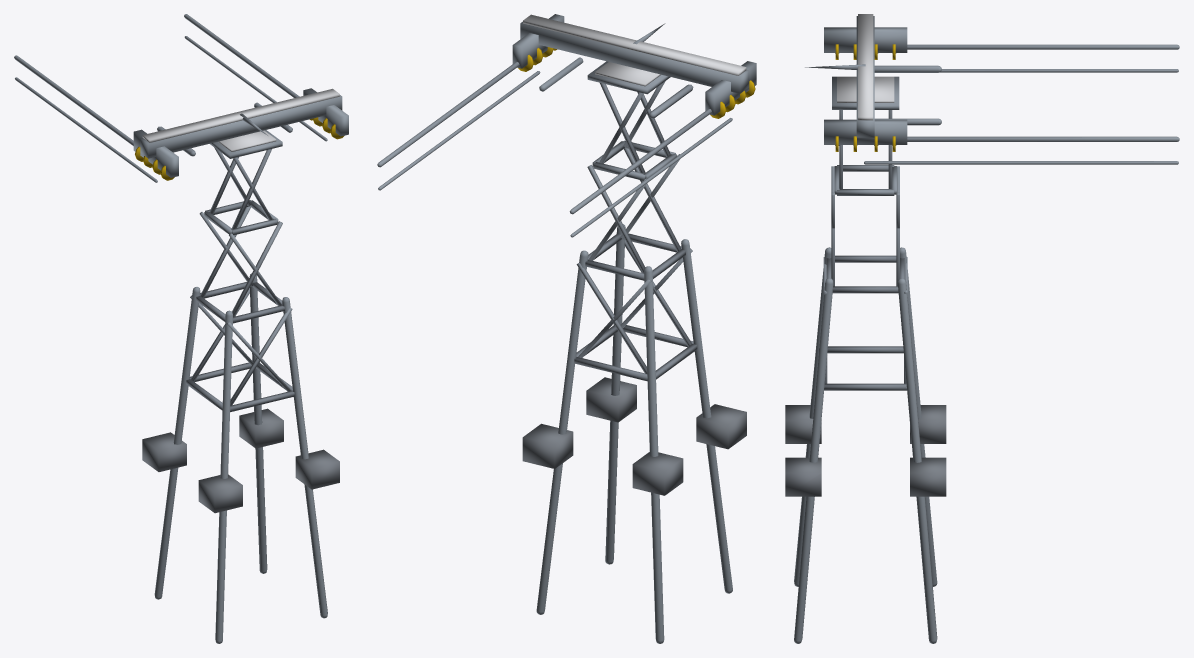
The model's file is cable_tower.glb.
3 views of the same model, side by side, from view 1: azimuth 30°, elevation 25°; view 2: azimuth 150°, elevation 25°; view 3: azimuth 270°, elevation 25° (orthographic). The views are drawn at different scales.
Parts seen in each view (by area): view 1: cable_tower; view 2: cable_tower; view 3: cable_tower.
Boxes of the visible parts, bbox=[...] form: cable_tower: bbox=[14, 14, 348, 643]; cable_tower: bbox=[377, 14, 756, 643]; cable_tower: bbox=[785, 14, 1179, 643].
Size of the model in its own units: 4.8 by 11.7 by 7.6.
